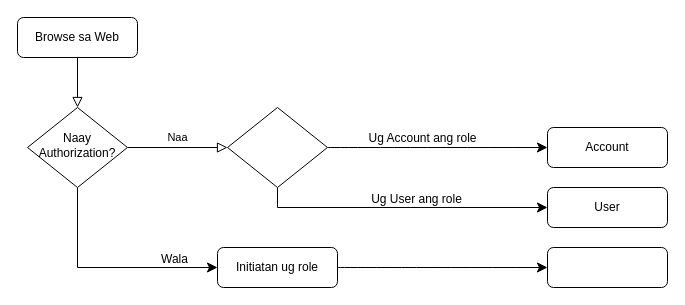
This 685x305 diagram has some shape labels left out. The centre of each missing label's shape, as x and y in pixels:
"Anonymous User" belongs at [607,267].
"Tanawn ang role" belongs at [277,147].
